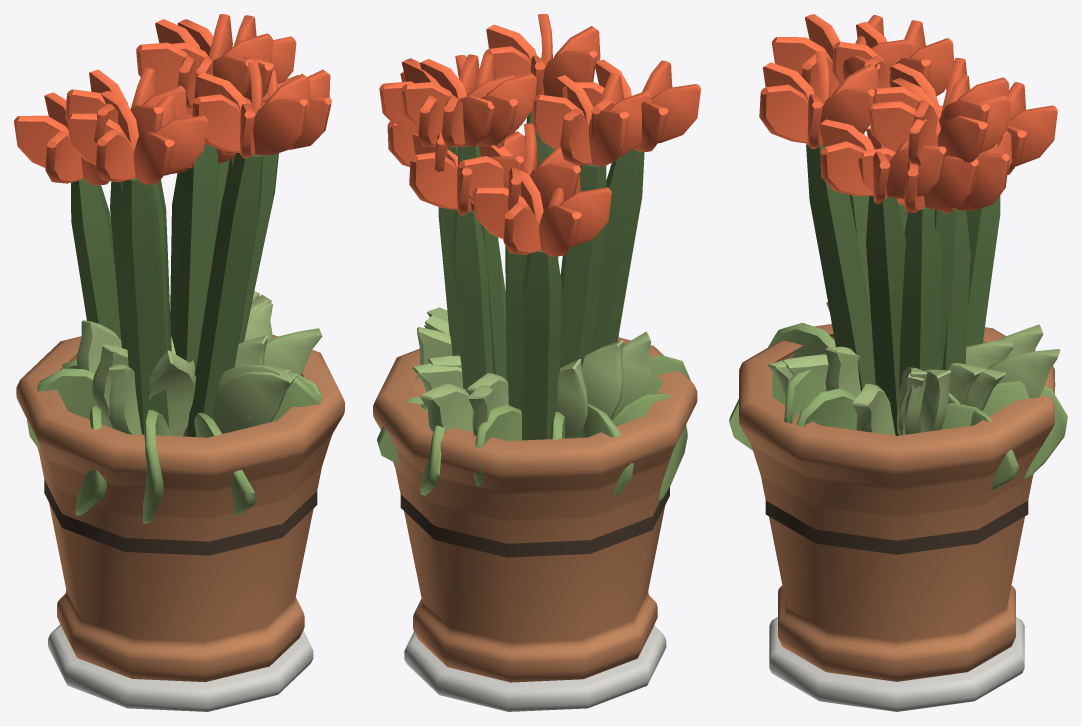
Rendered from petit_terracotta_clochettes.glb.
3 renders of one model, left to right at view 1: azimuth 30°, elevation 25°; view 2: azimuth 150°, elevation 25°; view 3: azimuth 270°, elevation 25°, orthographic.
Visible parts, largest first — view 1: PTB_Pot_Terracotta, PTB_Tige, PTB_Fl_Corail, PTB_Feuille_Tendre, PTB_Embase, PTB_Feuille_Clair, PTB_Terre; view 2: PTB_Pot_Terracotta, PTB_Fl_Corail, PTB_Tige, PTB_Feuille_Tendre, PTB_Embase, PTB_Feuille_Clair, PTB_Terre; view 3: PTB_Pot_Terracotta, PTB_Fl_Corail, PTB_Tige, PTB_Feuille_Tendre, PTB_Feuille_Clair, PTB_Embase, PTB_Terre.
Boxes of the visible parts, box(x1,y1,x2,y2) form: PTB_Pot_Terracotta: box(16, 335, 344, 682); PTB_Tige: box(71, 143, 278, 436); PTB_Fl_Corail: box(14, 14, 331, 185); PTB_Feuille_Tendre: box(77, 291, 322, 436); PTB_Embase: box(48, 624, 313, 711); PTB_Feuille_Clair: box(27, 359, 321, 523); PTB_Terre: box(44, 427, 317, 555); PTB_Pot_Terracotta: box(373, 337, 697, 682); PTB_Fl_Corail: box(379, 14, 700, 256); PTB_Tige: box(438, 110, 644, 440); PTB_Feuille_Tendre: box(412, 307, 650, 438); PTB_Embase: box(404, 625, 666, 711); PTB_Feuille_Clair: box(377, 355, 690, 502); PTB_Terre: box(400, 487, 669, 557); PTB_Pot_Terracotta: box(739, 324, 1054, 681); PTB_Fl_Corail: box(759, 14, 1057, 213); PTB_Tige: box(806, 133, 1000, 435); PTB_Feuille_Tendre: box(768, 302, 1060, 435); PTB_Feuille_Clair: box(729, 322, 1067, 490); PTB_Embase: box(769, 617, 1024, 711); PTB_Terre: box(765, 500, 1028, 554).
Bounding box in the file's own units: 0.26 × 0.5159 × 0.2647.
